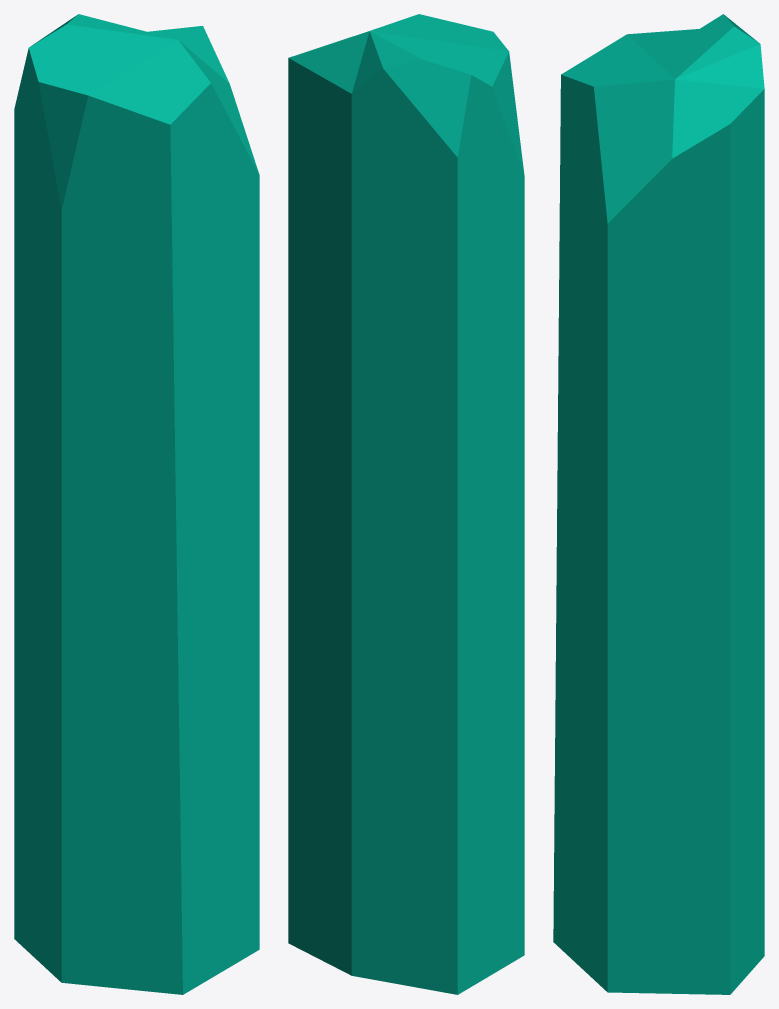
File: Jem_29.fbx
3 renders of one model, left to right at view 1: azimuth 30°, elevation 25°; view 2: azimuth 150°, elevation 25°; view 3: azimuth 270°, elevation 25°, orthographic.
Visible parts, largest first — view 1: Jem_29; view 2: Jem_29; view 3: Jem_29.
Boxes of the visible parts, <box> form: Jem_29: <box>14,14,259,994</box>; Jem_29: <box>288,14,524,994</box>; Jem_29: <box>553,14,764,994</box>.
Size of the model in its own units: 17.22 by 79.74 by 16.9.
